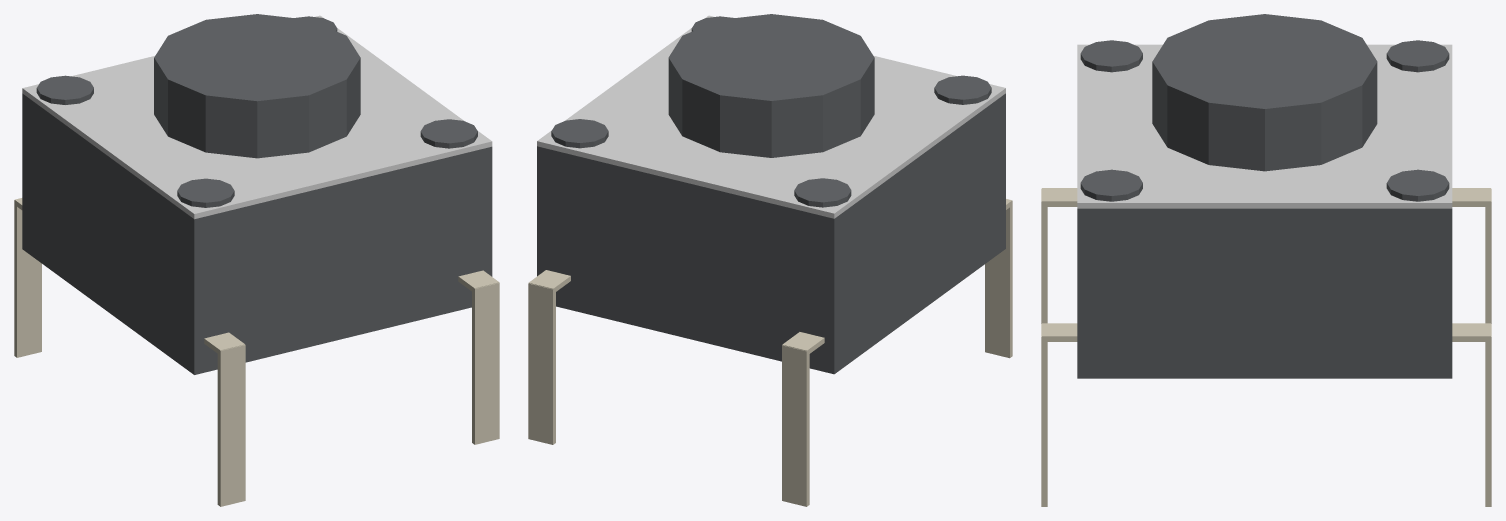
Rendered from button.glb.
The picture shows the model from 3 angles, left to right: view 1: azimuth 30°, elevation 25°; view 2: azimuth 150°, elevation 25°; view 3: azimuth 270°, elevation 25°; orthographic projection. The views are drawn at different scales.
Parts seen in each view (by area): view 1: Mesh_Mesh_head_geo.001_lambert2SG.001; view 2: Mesh_Mesh_head_geo.001_lambert2SG.001; view 3: Mesh_Mesh_head_geo.001_lambert2SG.001.
Part boxes in pixels (x1,y1,x2,y2): Mesh_Mesh_head_geo.001_lambert2SG.001: (14,14,499,506); Mesh_Mesh_head_geo.001_lambert2SG.001: (528,14,1012,506); Mesh_Mesh_head_geo.001_lambert2SG.001: (1041,14,1491,506).
Size of the model in its own units: 6 by 6.55 by 7.2.
